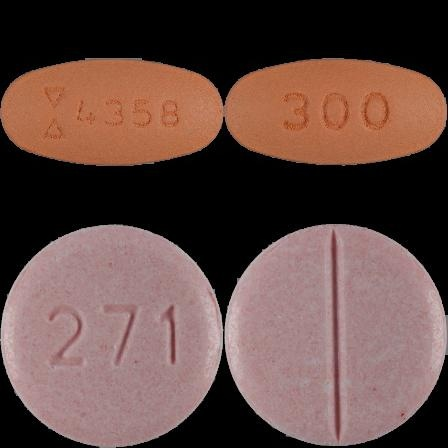0615-4514: (0, 0, 224, 224)
